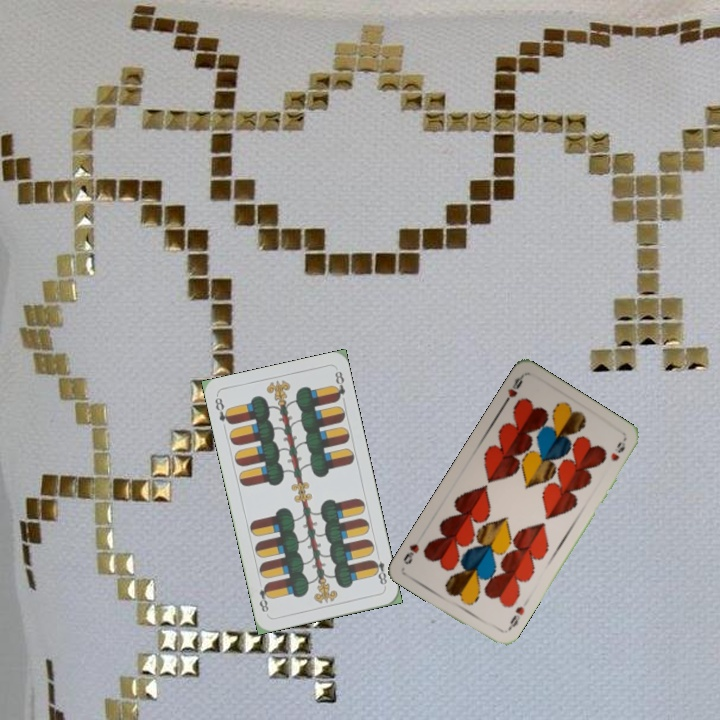E8: (211, 393, 234, 427), (368, 556, 389, 590)
H9: (498, 372, 526, 409), (501, 602, 527, 634)
